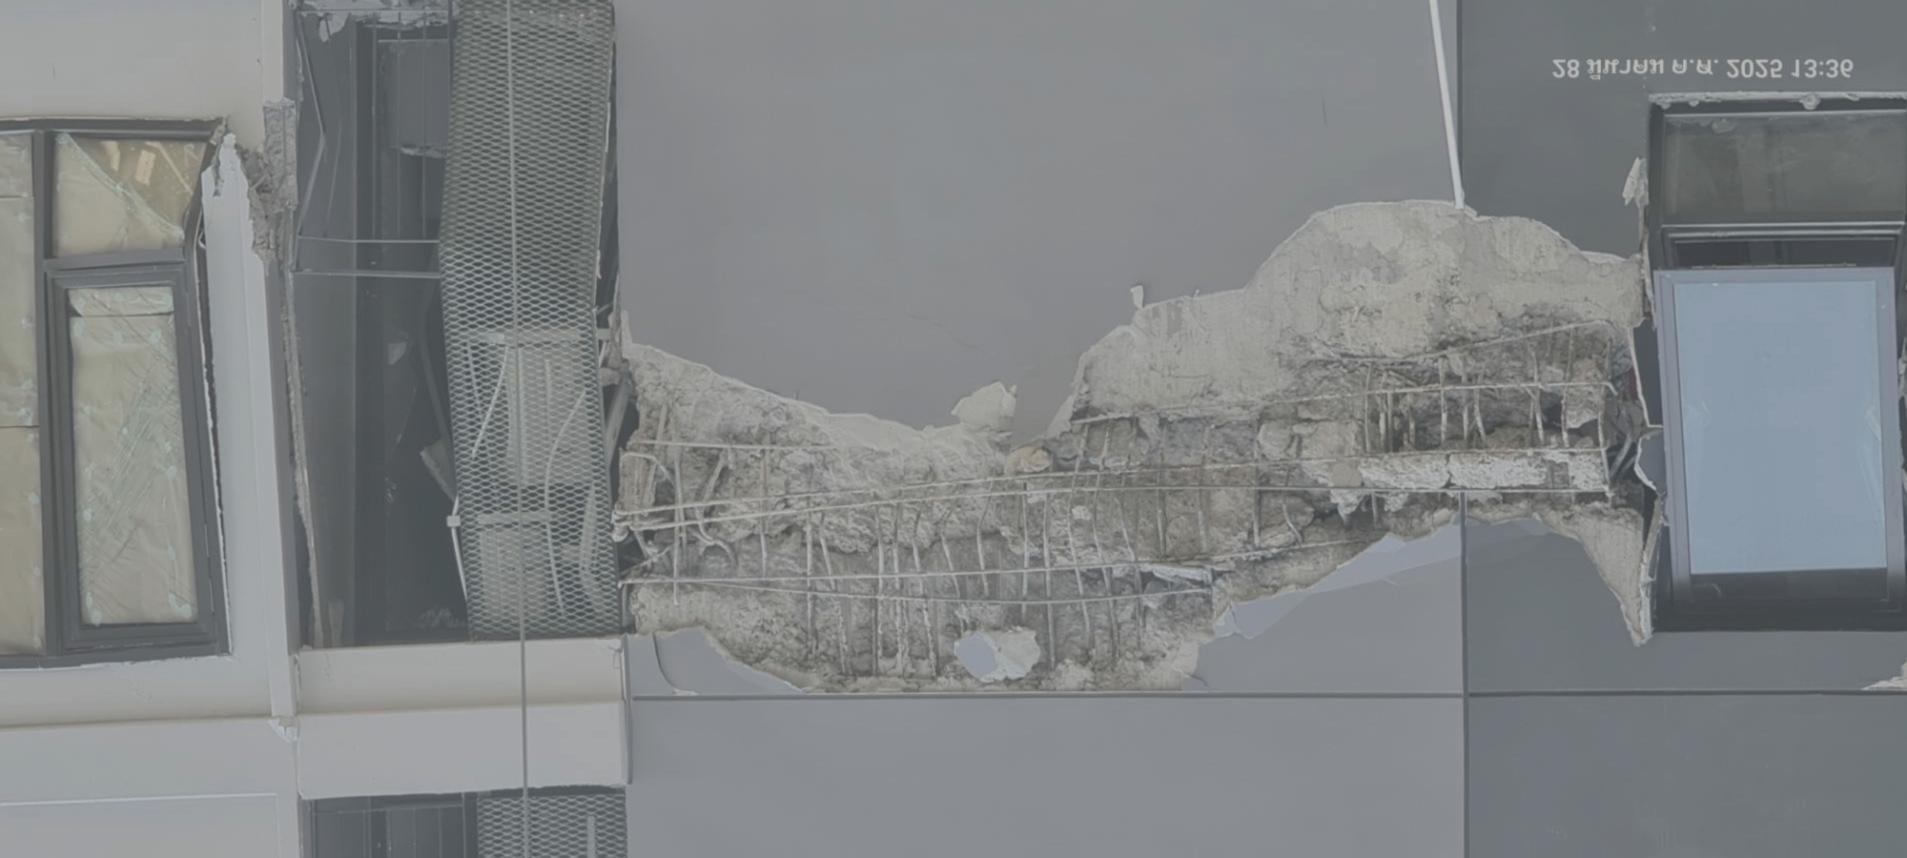High: (518, 145, 1715, 724)
